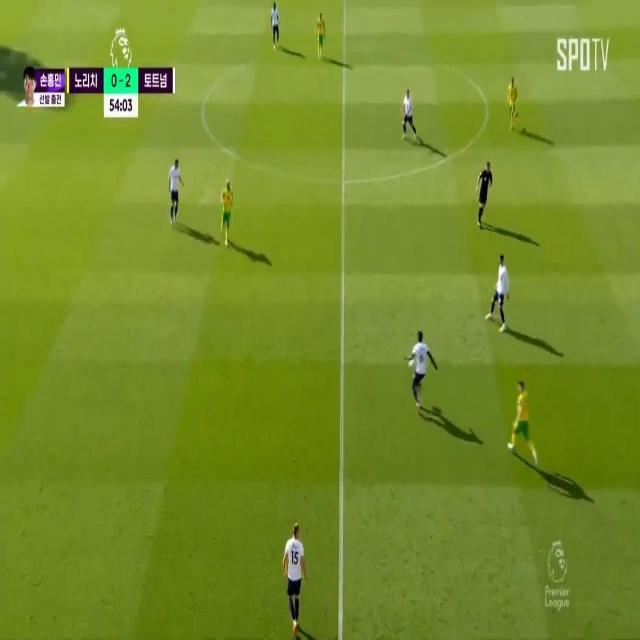ball: (407, 358, 415, 374)
player: (281, 519, 313, 623), (516, 380, 531, 463), (413, 333, 429, 405), (167, 157, 181, 227), (220, 176, 231, 247), (402, 86, 414, 150), (499, 253, 508, 327), (318, 7, 327, 69), (507, 74, 517, 123), (269, 2, 280, 42)
referee: (482, 152, 494, 234)
